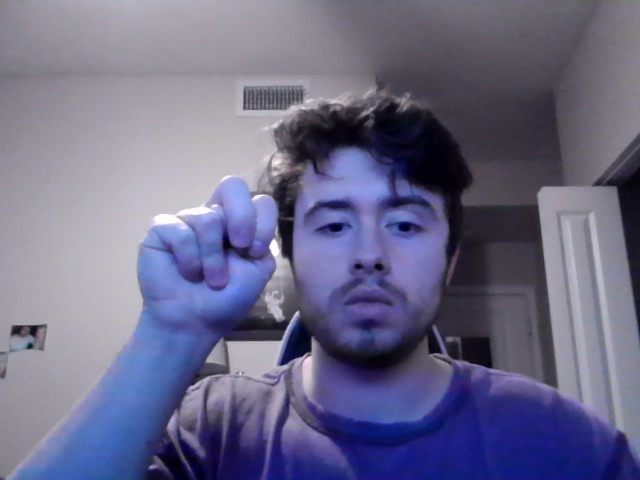n: (136, 175, 278, 348)
